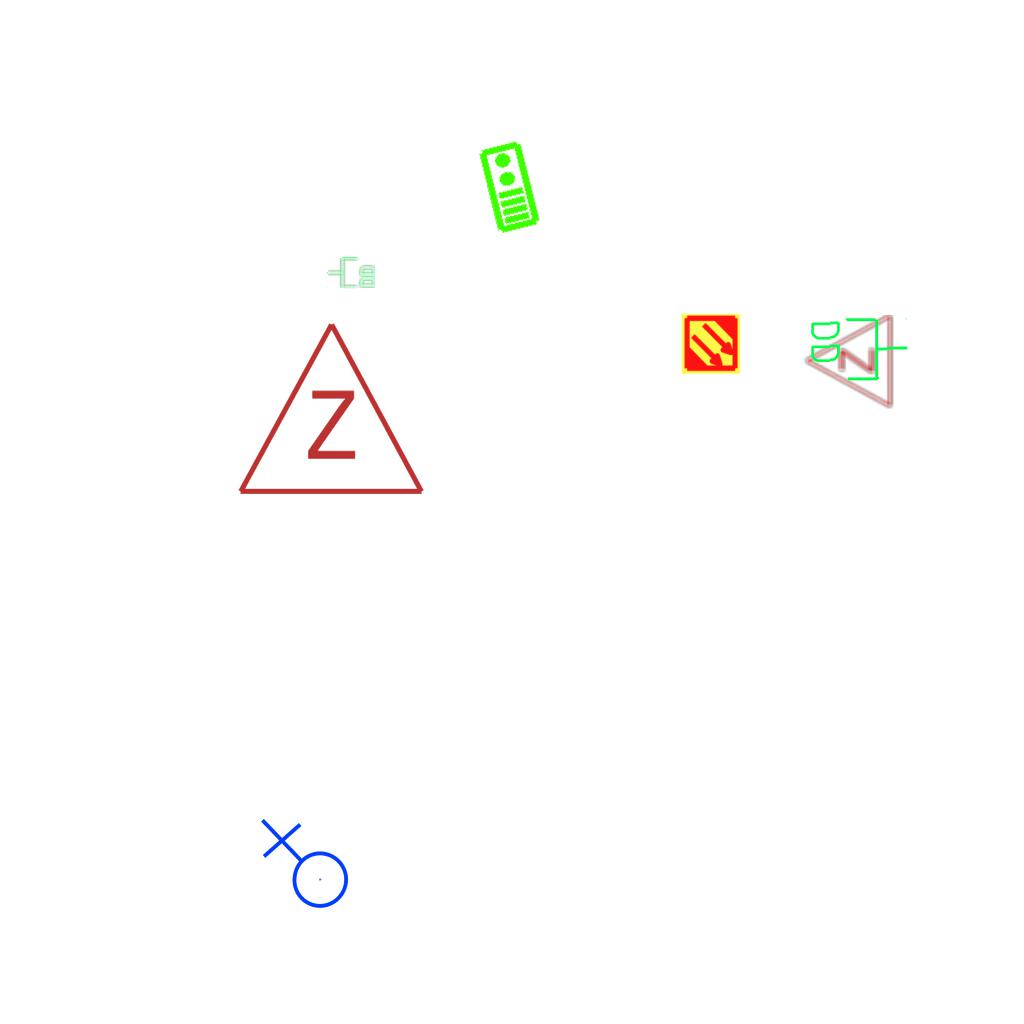ASR_Ansaugrauchmelder: (680, 313, 742, 375)
Datenanschluss_zweifach: (806, 313, 911, 384), (326, 256, 377, 290)
Elektroanschluss_allgemein_230V_Geraeteanschlussdose_230V: (256, 818, 350, 917)
Gegensprechanlage_mit_Video: (475, 138, 542, 236)
Zimmersignalleuchte: (231, 309, 427, 509), (799, 313, 899, 411)
